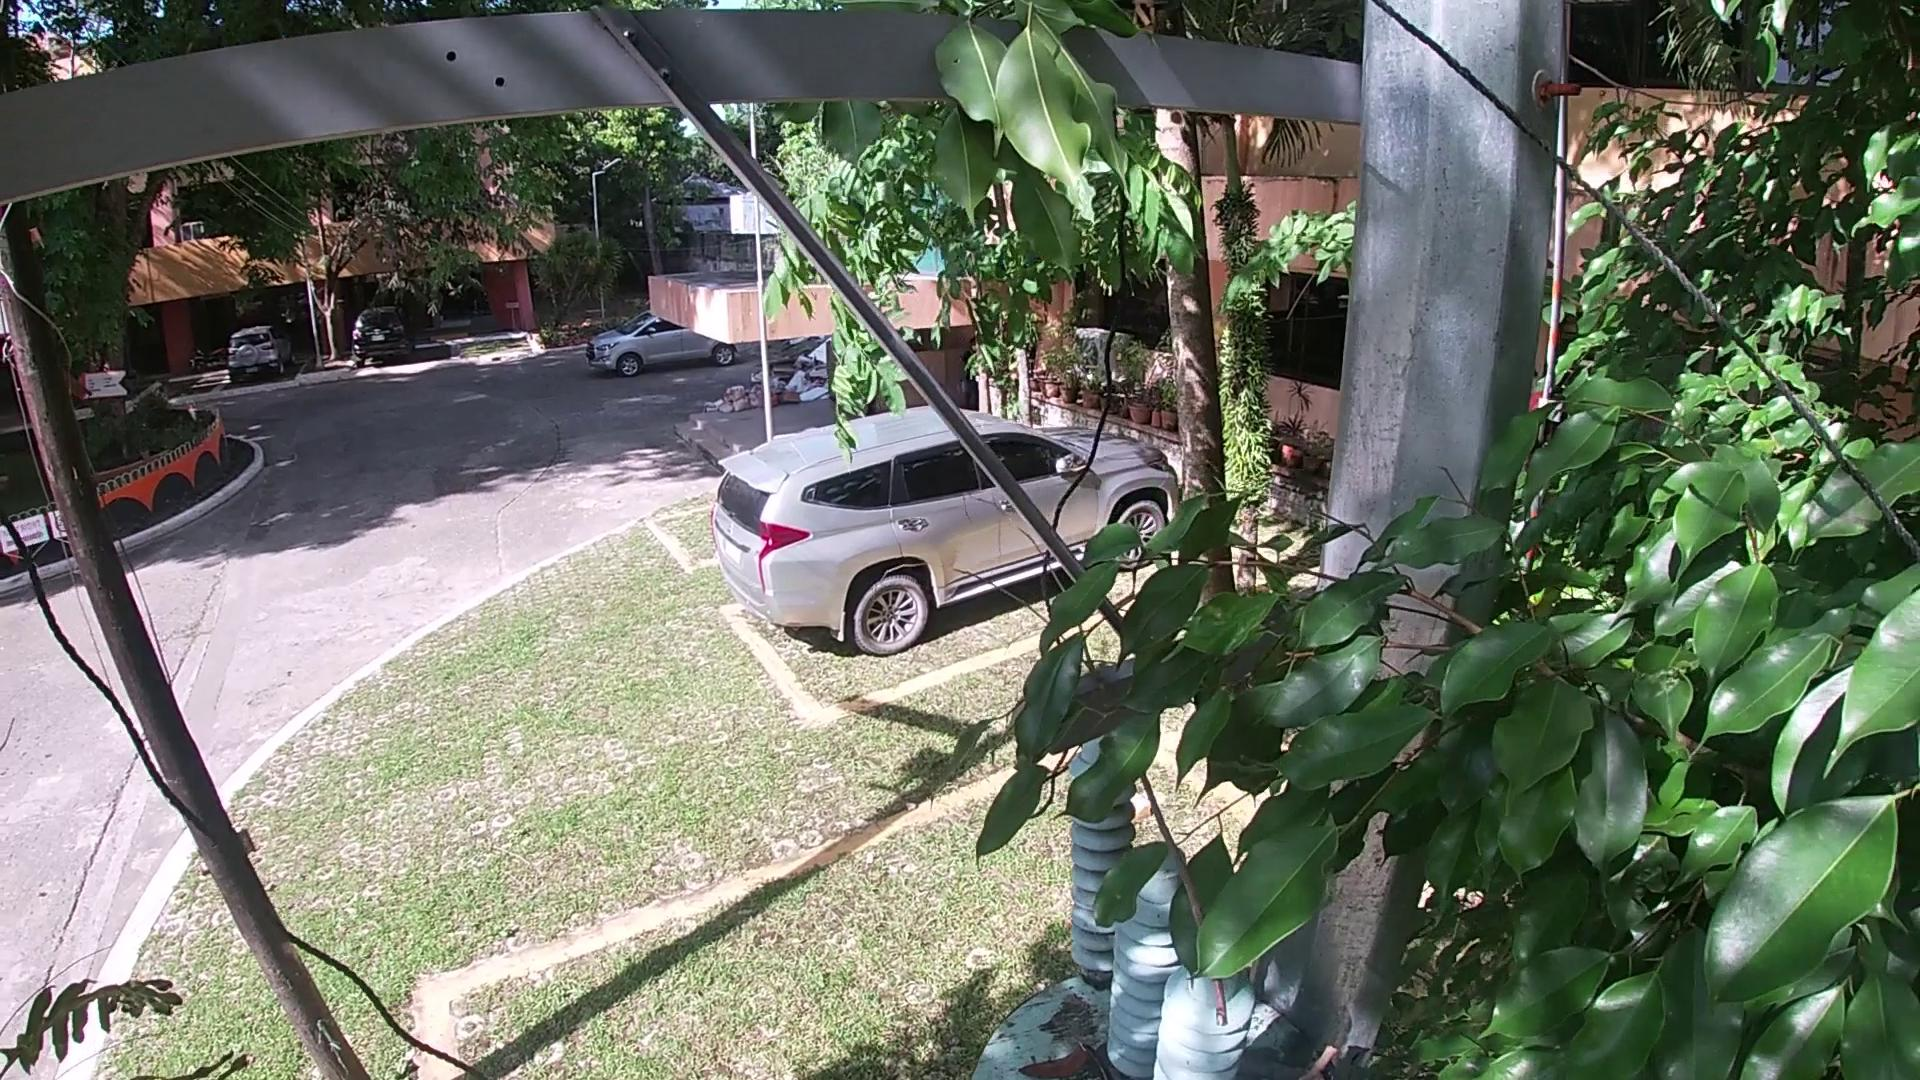mahogany fruit: (1018, 1043, 1098, 1080)
tree branch: (952, 506, 1253, 1033), (1279, 1040, 1342, 1077), (1237, 1052, 1327, 1075)
